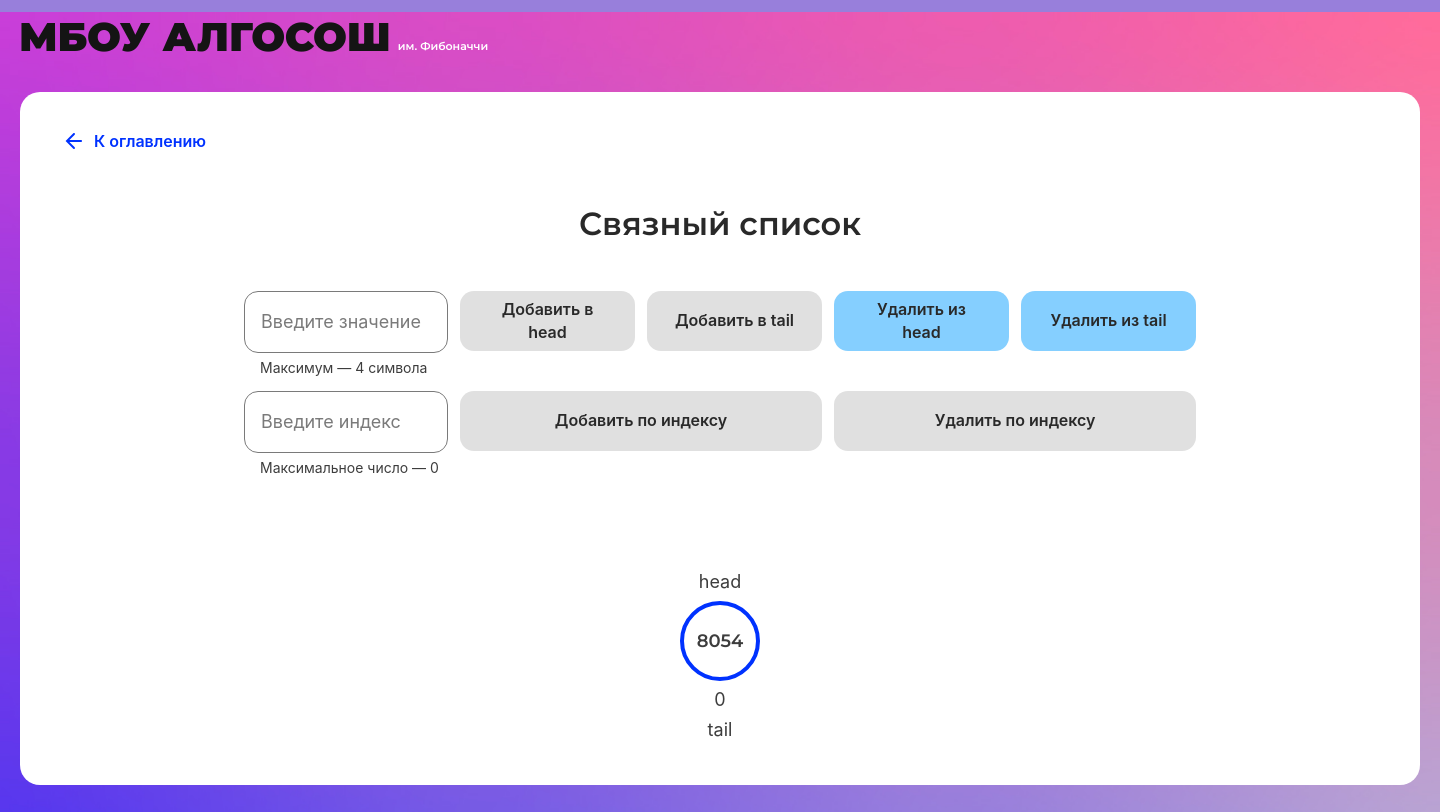
page open correctly › should add element to index correctly
Type "666" into the field with placeholder "Введите значение".
click(346, 322); type("666")  # box [244, 291, 448, 353]
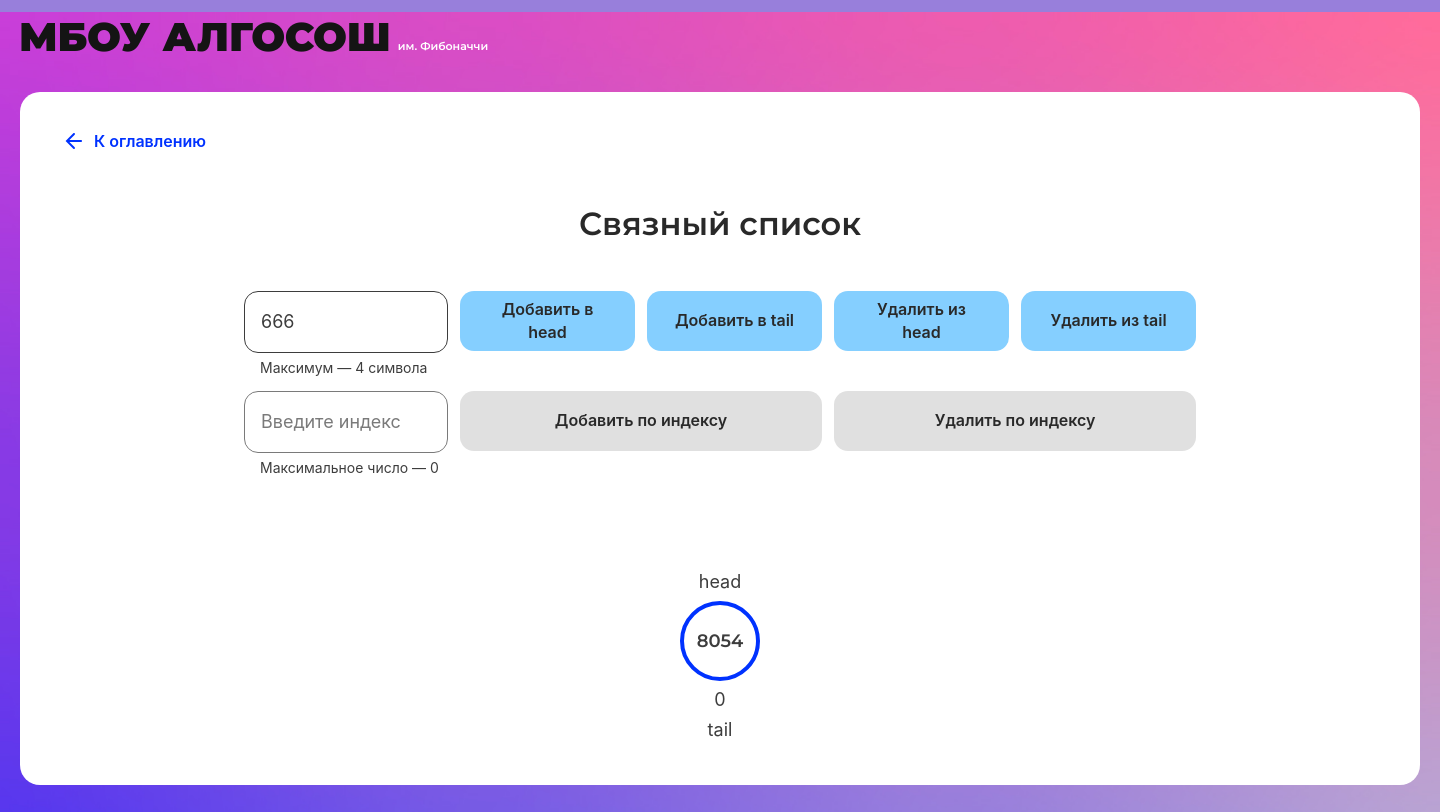
Type "0" into the number field with placeholder "Введите индекс".
click(346, 422); type("0")  # box [244, 391, 448, 453]
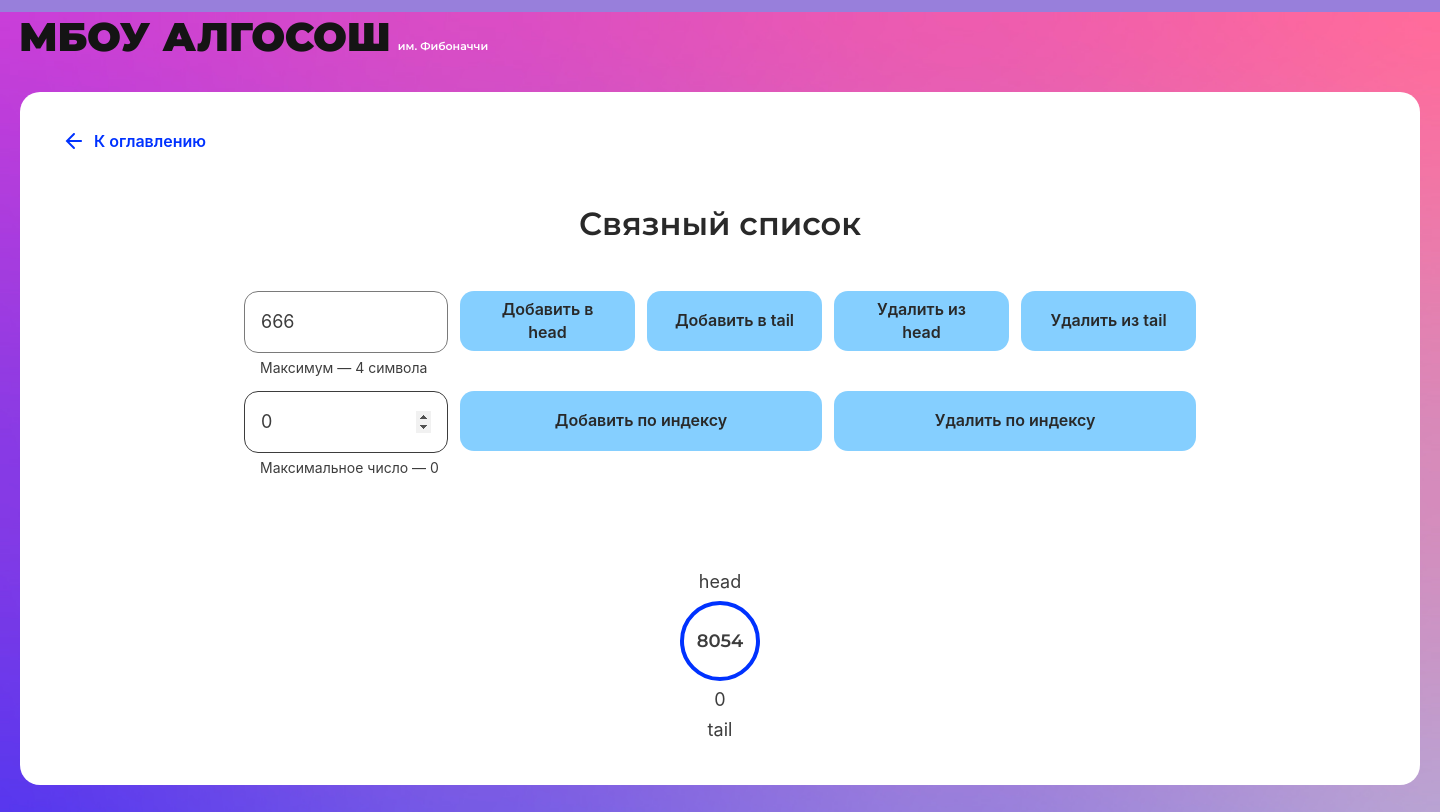
Check: the button is enabled
Click the button "Добавить по индексу".
click(641, 421)  # box [460, 391, 822, 451]
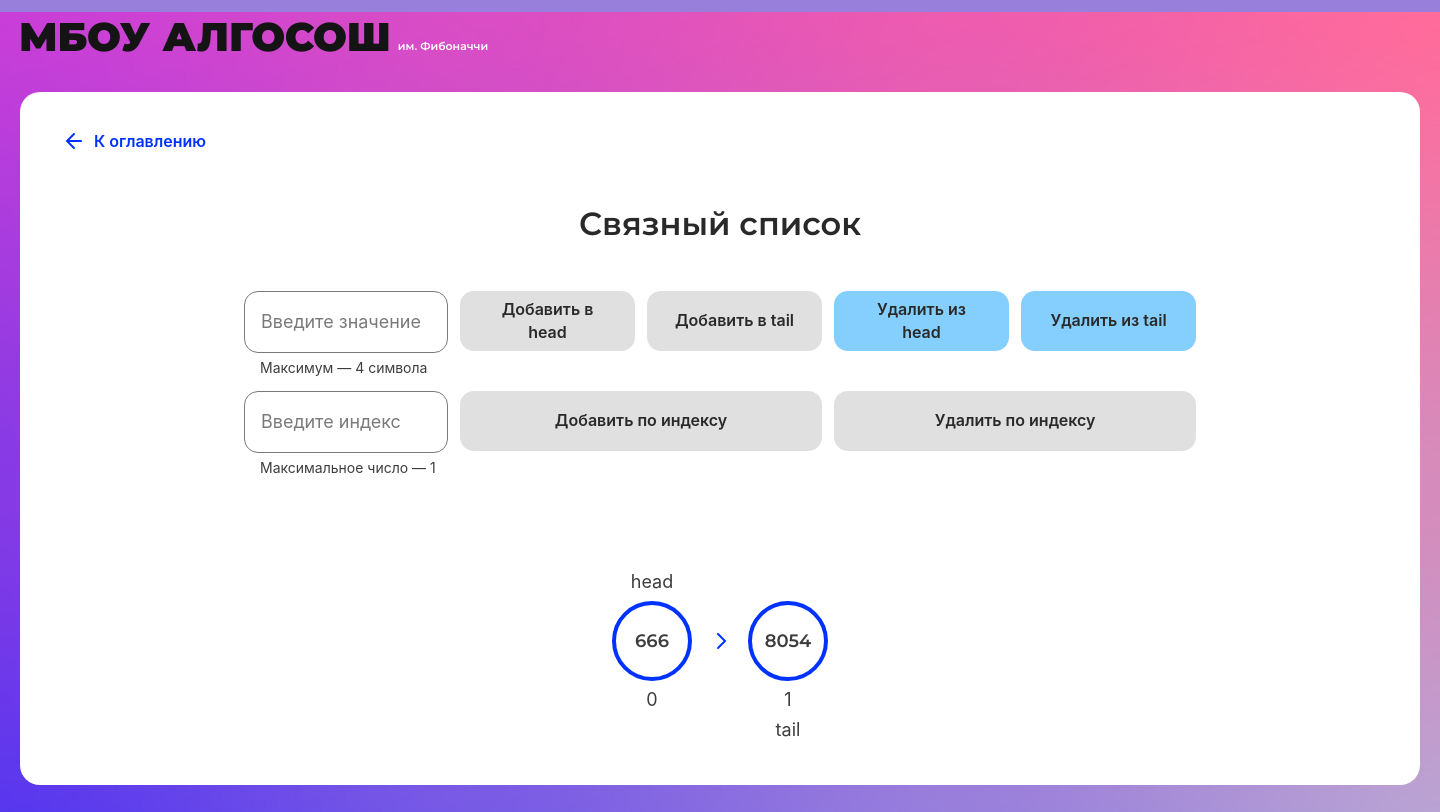
Check: the text with test id "letter" reads "666", box [635, 630, 669, 652]
